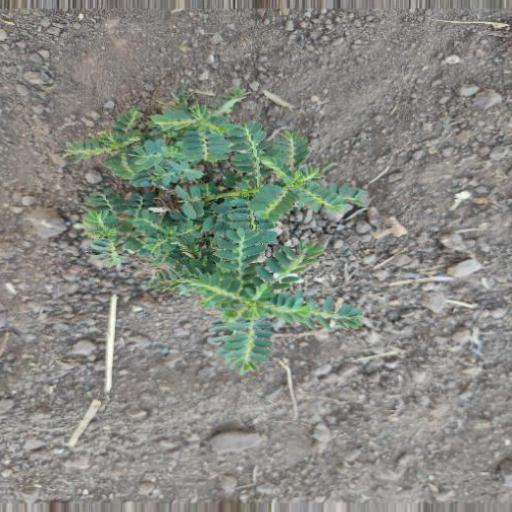weed: (81, 98, 390, 365)
